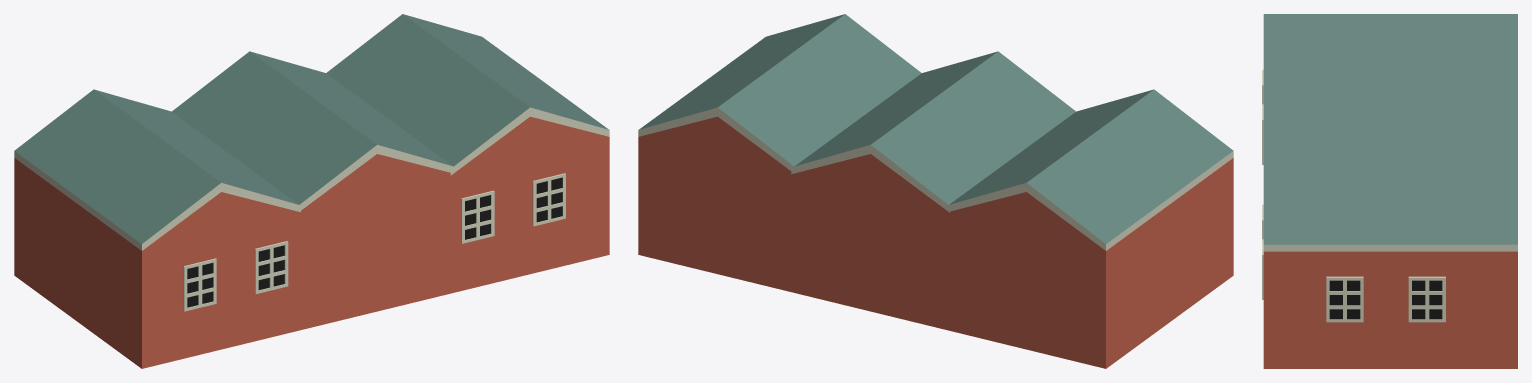
File: Cafeteria.fbx
3 renders of one model, left to right at view 1: azimuth 30°, elevation 25°; view 2: azimuth 150°, elevation 25°; view 3: azimuth 270°, elevation 25°, orthographic.
Visible parts, largest first — view 1: Cafeteria; view 2: Cafeteria; view 3: Cafeteria.
Part boxes in pixels (x1=…): Cafeteria: x1=14, y1=14, x2=609, y2=368; Cafeteria: x1=638, y1=14, x2=1233, y2=368; Cafeteria: x1=1262, y1=14, x2=1517, y2=368.
Size of the model in its own units: 275 by 93.41 by 130.
